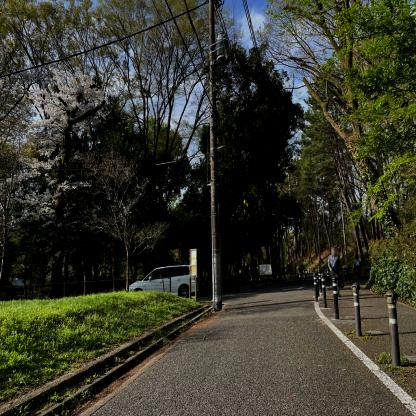Someiyoshino: (0, 45, 124, 240)
